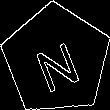N_N: (29, 28, 84, 91)
